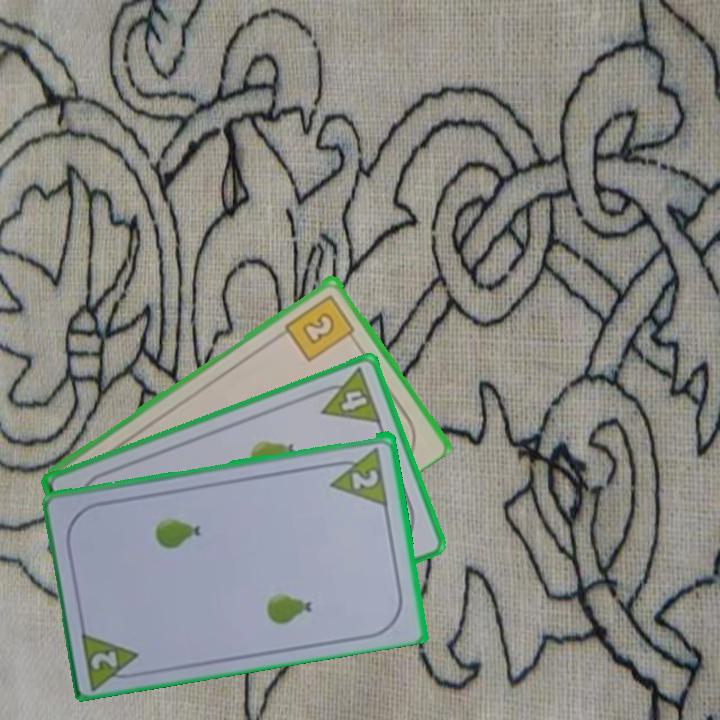2b: (281, 290, 359, 364)
2p: (324, 443, 391, 507), (87, 646, 121, 672)
4p: (311, 364, 385, 427)
